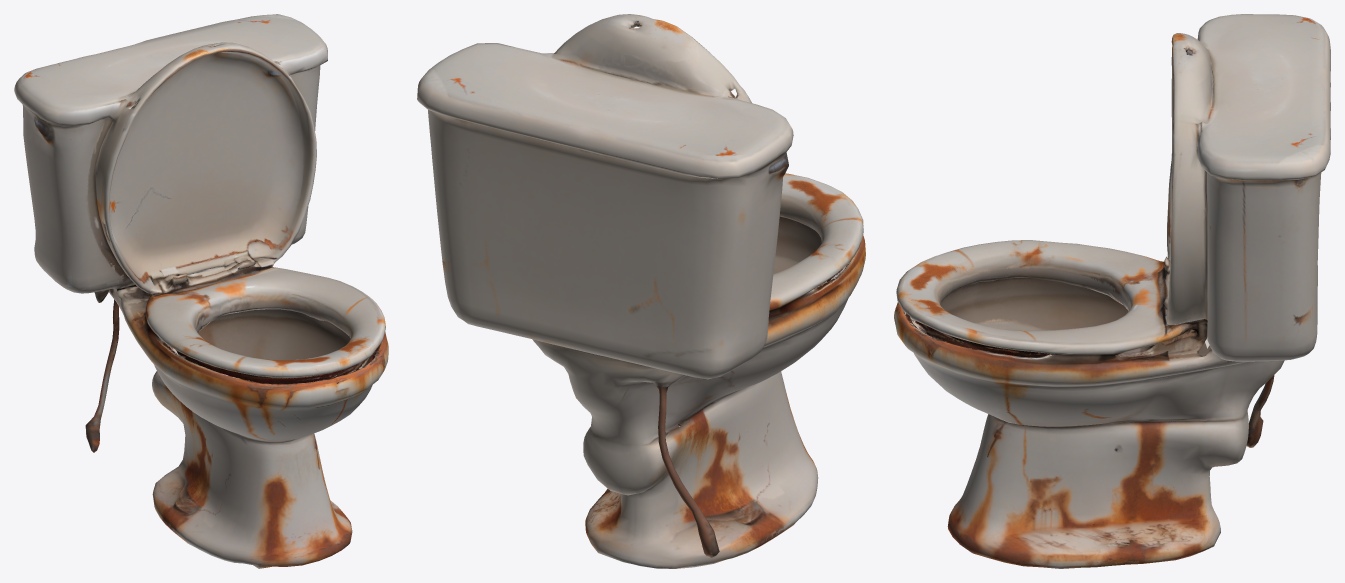
Rendered from toilet.glb.
The picture shows the model from 3 angles, left to right: view 1: azimuth 30°, elevation 25°; view 2: azimuth 150°, elevation 25°; view 3: azimuth 270°, elevation 25°; orthographic projection. The views are drawn at different scales.
Bounding box in the file's own units: 1.34 × 1.99 × 1.61.
Materials: 1 (1 with a texture image).
